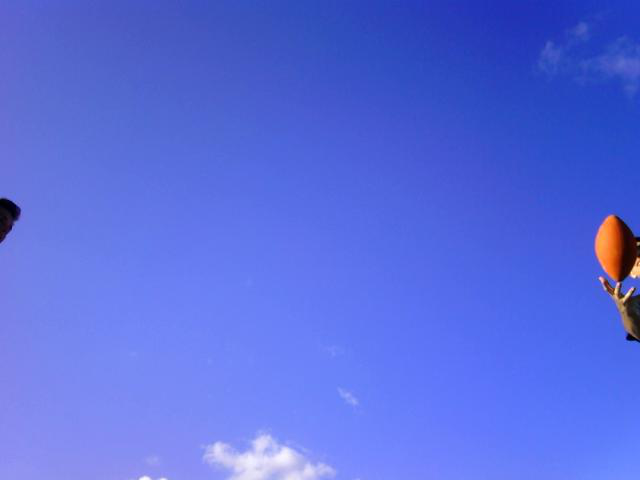football: (589, 209, 639, 285)
